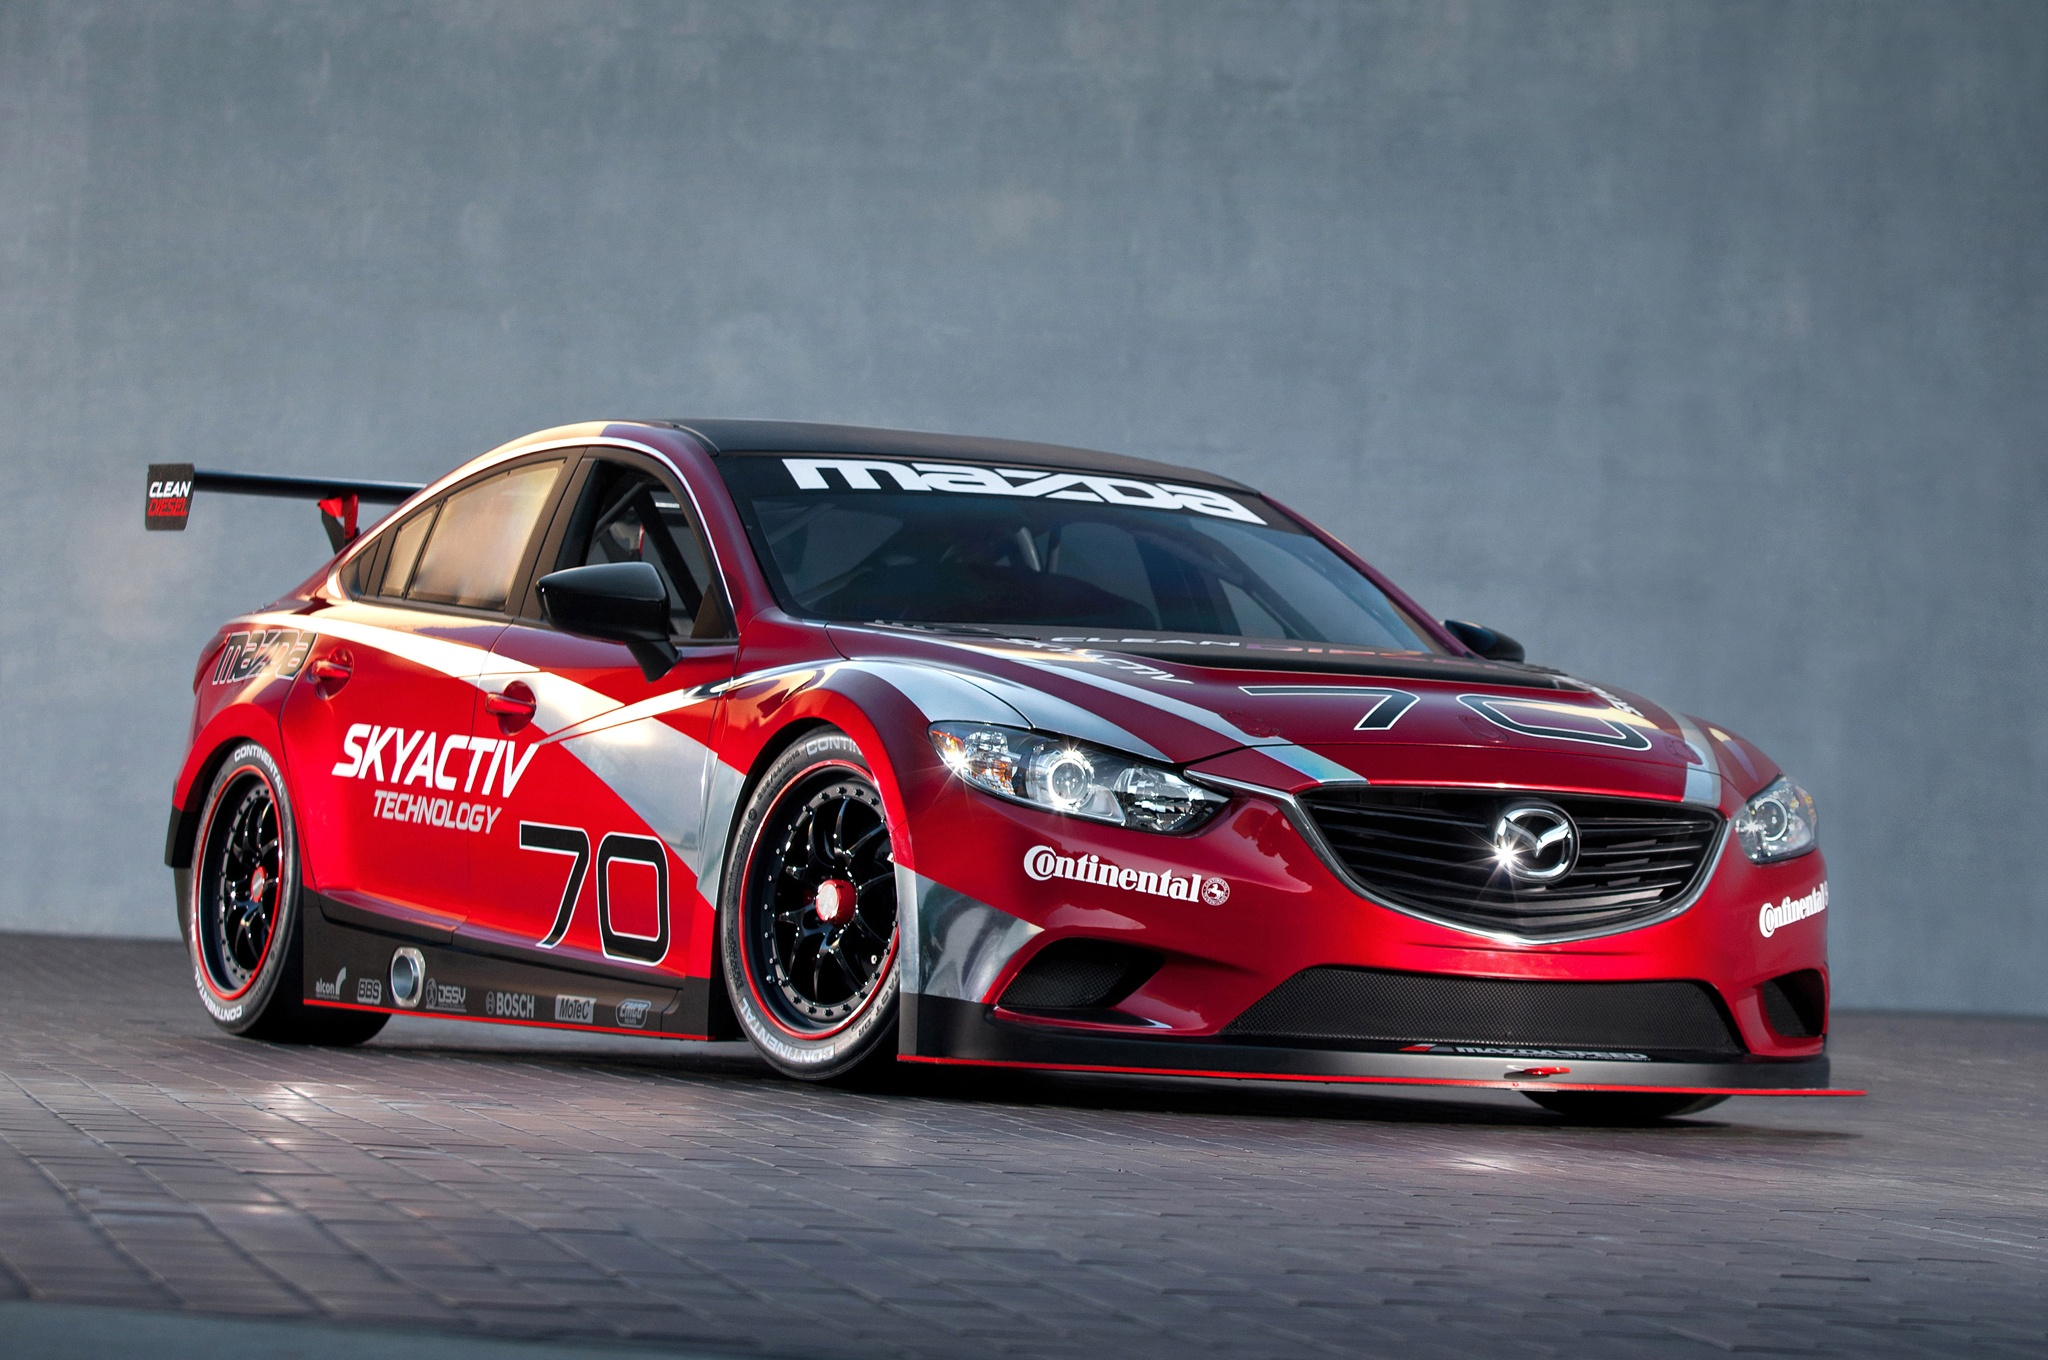racing car: (137, 366, 1907, 1163)
